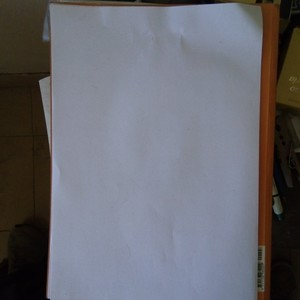base: (53, 6, 256, 298)
